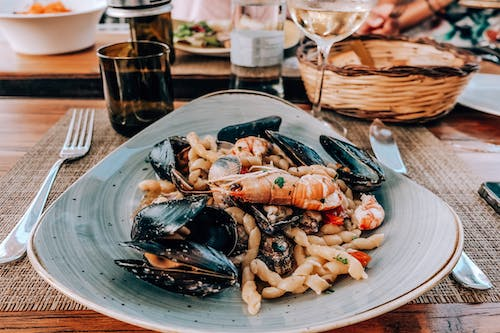knife: (368, 117, 409, 176)
